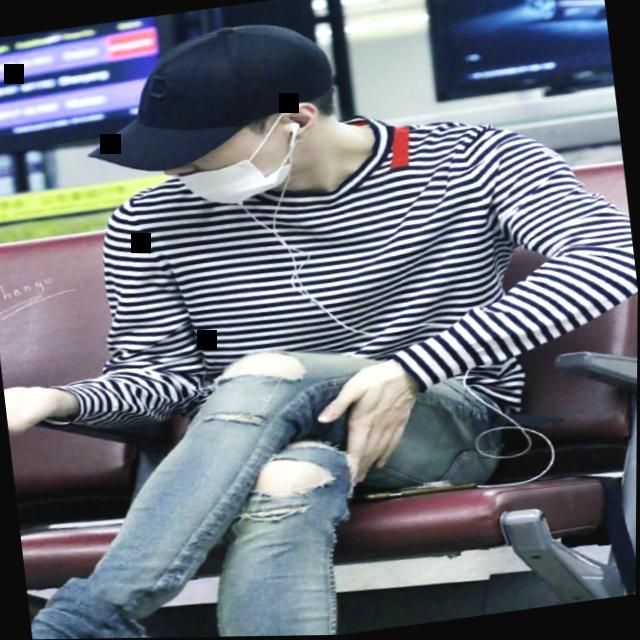Mask: (71, 12, 362, 229)
